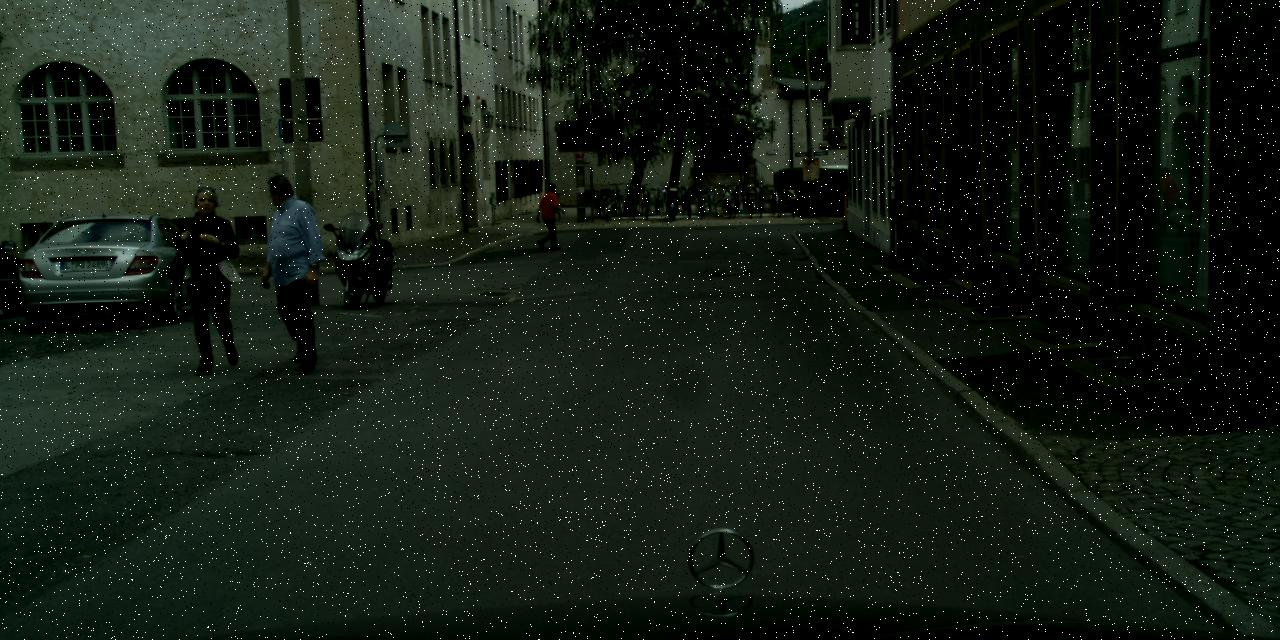ped: (251, 175, 329, 364), (176, 189, 248, 368), (536, 184, 563, 249)
